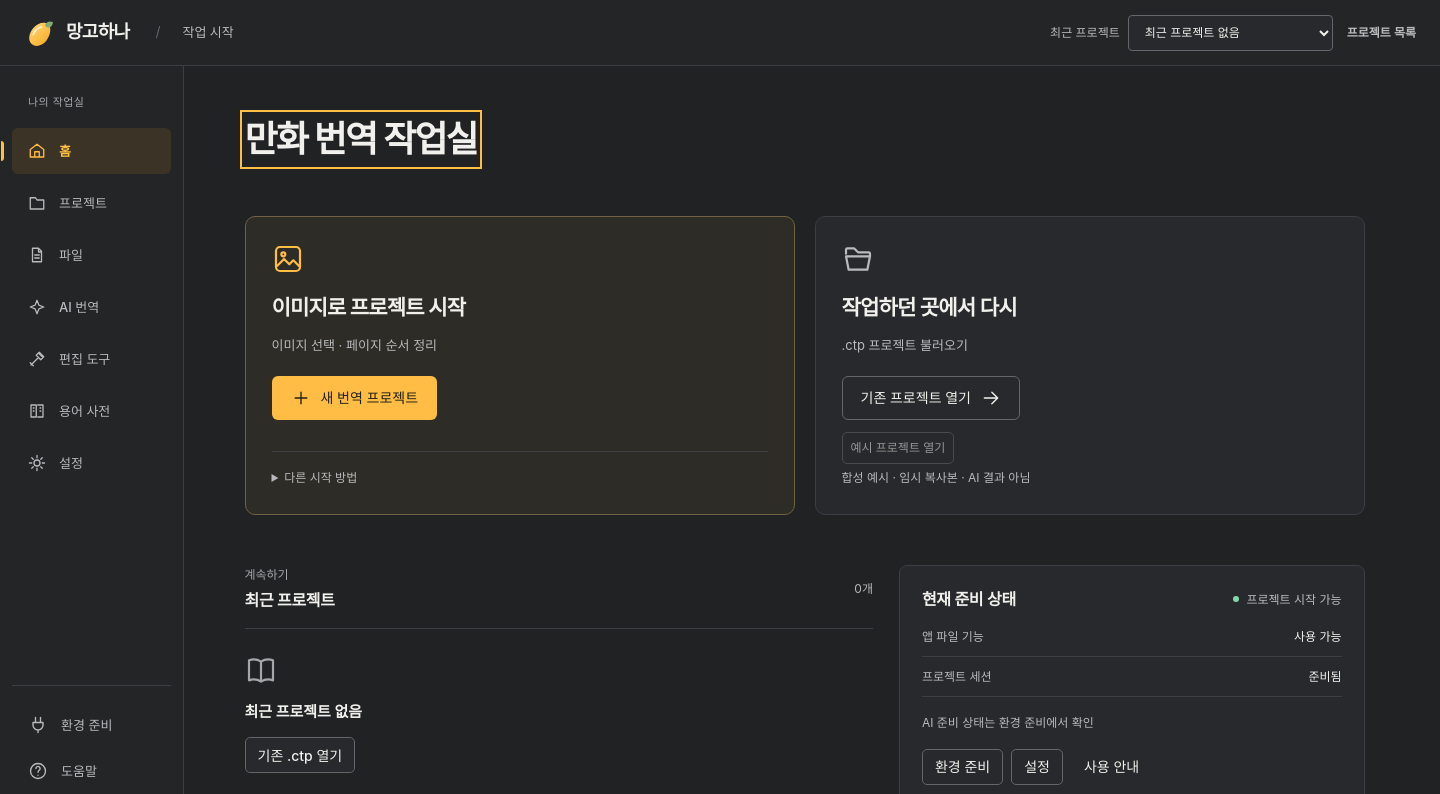
Test case: ProjectHomeScreen › keeps the original loading label while importing TXT
The image size is (1440, 794).
Click the heading "다른 시작 방법" at (314, 478), box [272,468,357,488]
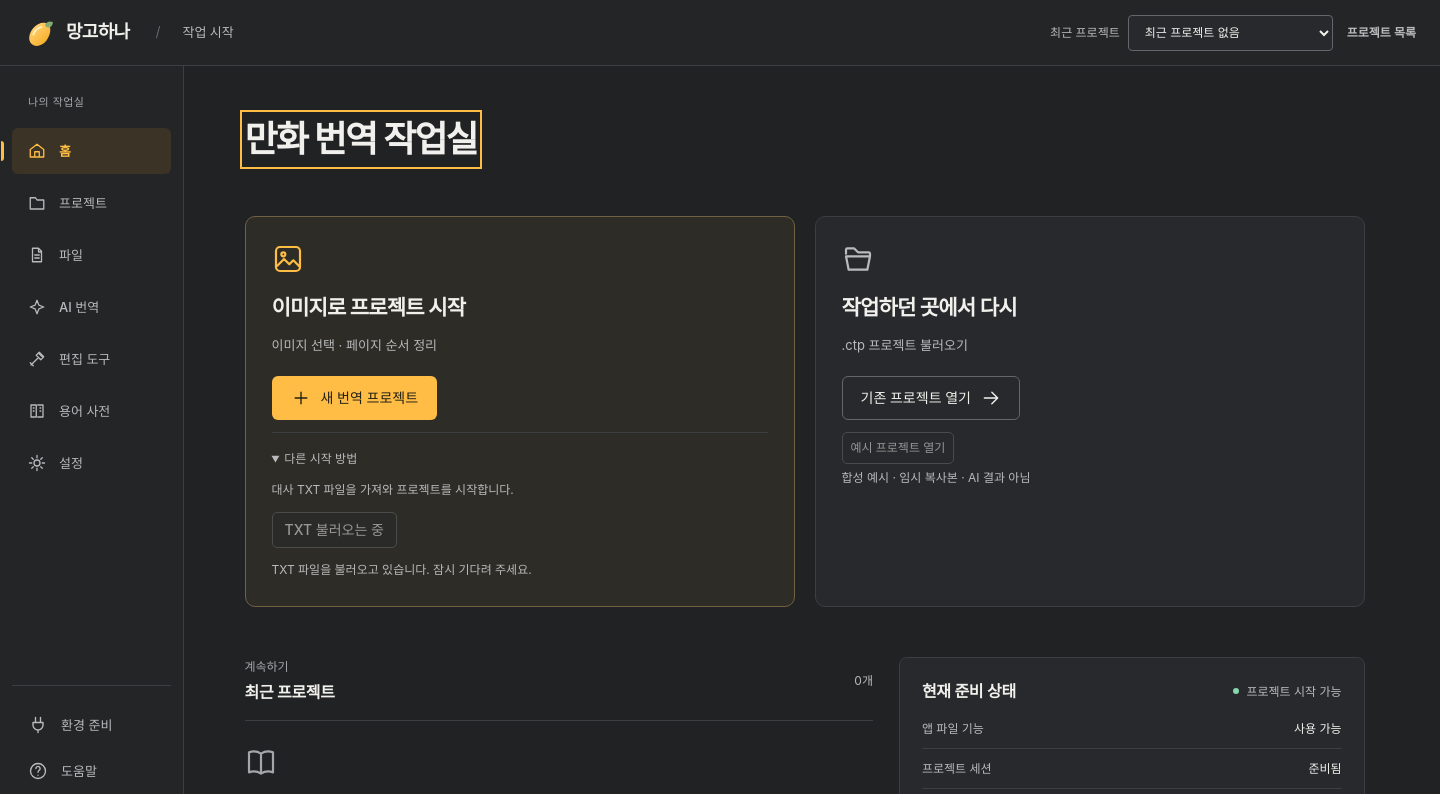
Result: the button "TXT 불러오는 중" is disabled at [272,512,397,548]
